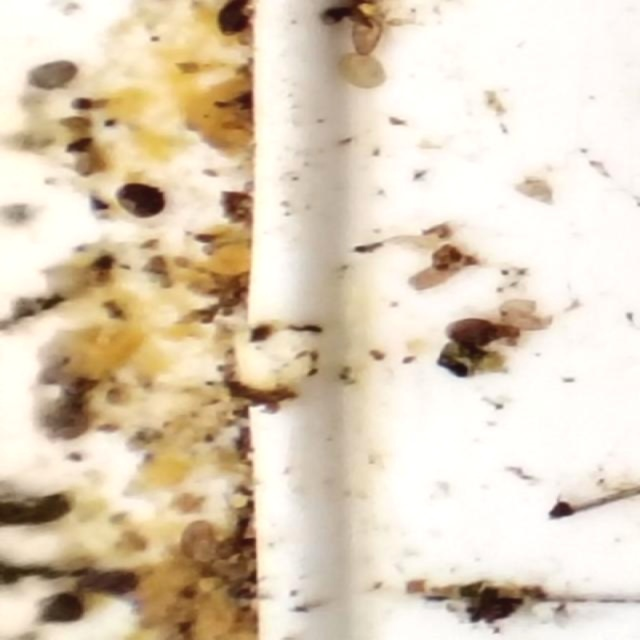varroa: (431, 316, 501, 349), (112, 184, 170, 221)
